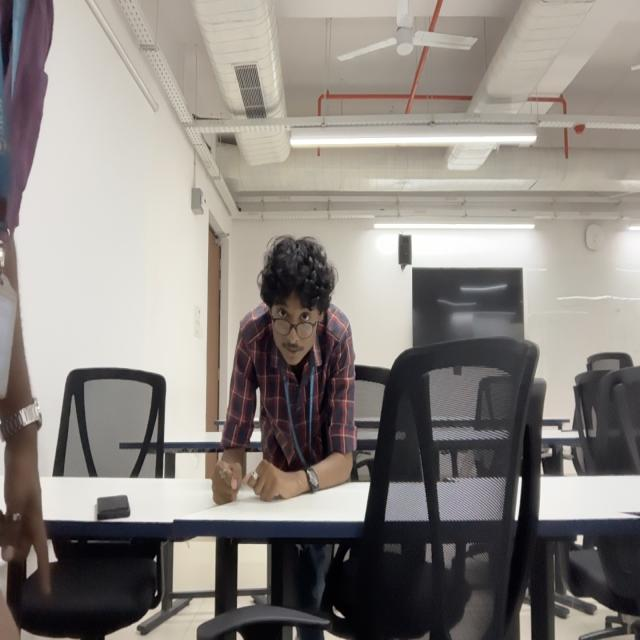darshan: (258, 236, 338, 362)
